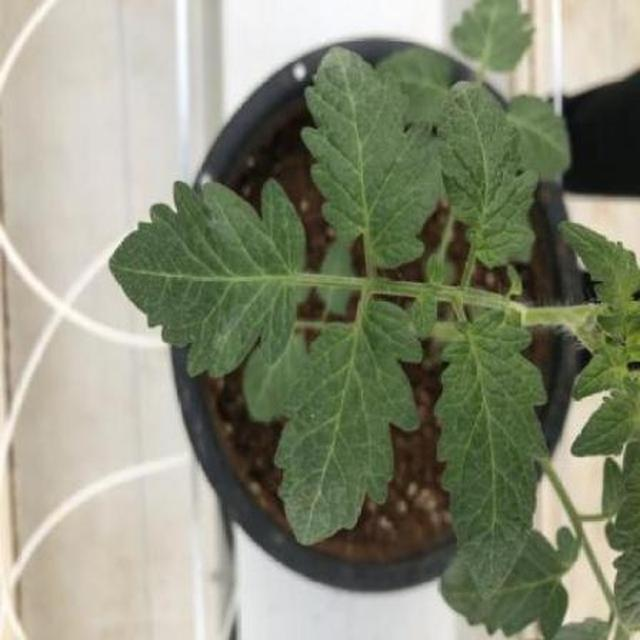Healthy Leaf: (147, 226, 640, 640)
